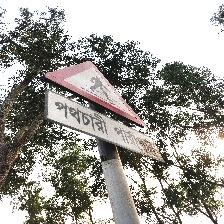Pedestrian-crossing: (42, 61, 165, 163)
